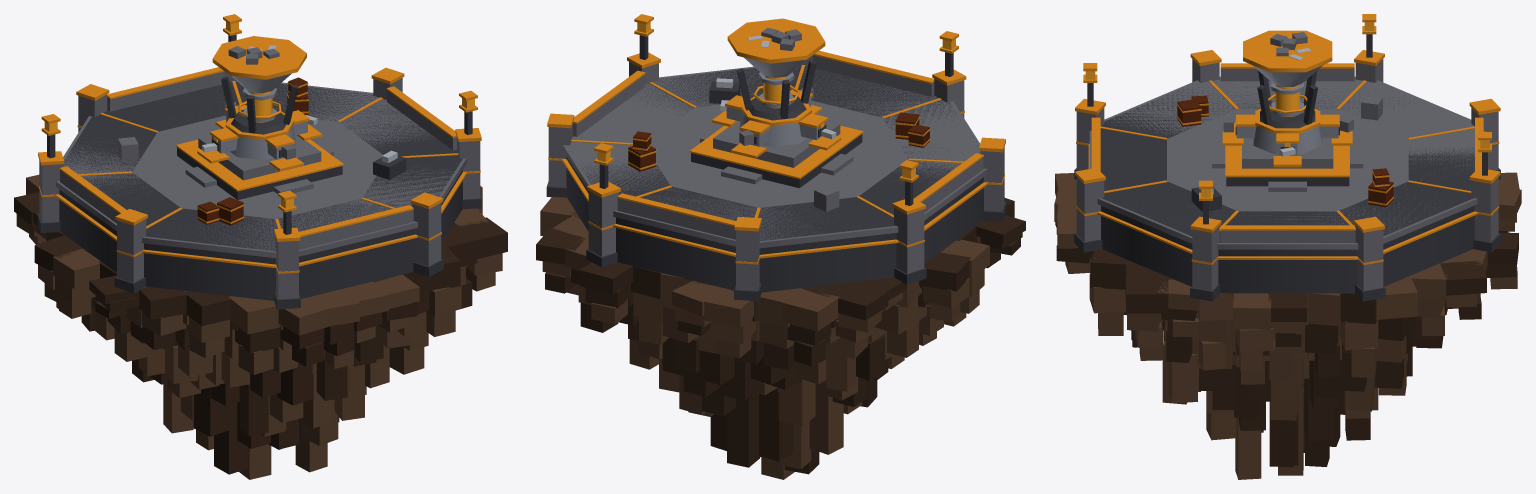
The model's file is bedwars-dispenser-island.obj.
The picture shows the model from 3 angles, left to right: view 1: azimuth 30°, elevation 25°; view 2: azimuth 150°, elevation 25°; view 3: azimuth 270°, elevation 25°; orthographic projection. The views are drawn at different scales.
Parts seen in each view (by area): view 1: platform_stone_dark, rock_underside_rock, rock_underside_rock_dark, platform_stone_tile, pillars_stone_tile, railings_stone_tile, railings_gold_trim, platform_trim_gold_trim, machine_hopper_gold_trim, pillars_gold_trim, tower_base_stone_tile, tower_base_gold_trim (+14 smaller); view 2: rock_underside_rock, platform_stone_dark, platform_stone_tile, rock_underside_rock_dark, pillars_stone_tile, railings_stone_tile, railings_gold_trim, platform_trim_gold_trim, machine_hopper_gold_trim, tower_base_stone_tile, pillars_gold_trim, tower_base_gold_trim (+15 smaller); view 3: rock_underside_rock, platform_stone_dark, platform_stone_tile, rock_underside_rock_dark, pillars_stone_tile, pillars_gold_trim, railings_stone_tile, platform_trim_gold_trim, machine_hopper_gold_trim, tower_base_stone_tile, tower_base_gold_trim, railings_gold_trim (+15 smaller).
Boxes of the visible parts, box(x1,y1,x2,y2) form: platform_stone_dark: box(59, 81, 462, 300); rock_underside_rock: box(16, 174, 502, 479); rock_underside_rock_dark: box(14, 192, 507, 474); platform_stone_tile: box(56, 82, 466, 258); pillars_stone_tile: box(39, 71, 480, 299); railings_stone_tile: box(60, 71, 456, 249); railings_gold_trim: box(59, 67, 456, 237); platform_trim_gold_trim: box(55, 81, 467, 267); machine_hopper_gold_trim: box(212, 36, 306, 79); pillars_gold_trim: box(38, 67, 481, 273); tower_base_stone_tile: box(185, 135, 333, 194); tower_base_gold_trim: box(176, 139, 343, 191); rock_underside_rock: box(540, 197, 990, 479); platform_stone_dark: box(566, 65, 983, 292); platform_stone_tile: box(563, 66, 987, 248); rock_underside_rock_dark: box(536, 198, 1025, 474); pillars_stone_tile: box(548, 55, 1004, 290); railings_stone_tile: box(573, 55, 983, 239); railings_gold_trim: box(573, 50, 983, 226); platform_trim_gold_trim: box(562, 65, 988, 258); machine_hopper_gold_trim: box(727, 18, 825, 63); tower_base_stone_tile: box(700, 121, 853, 184); pillars_gold_trim: box(547, 52, 1005, 264); tower_base_gold_trim: box(689, 125, 863, 179); rock_underside_rock: box(1054, 172, 1521, 479); platform_stone_dark: box(1100, 79, 1474, 293); platform_stone_tile: box(1089, 76, 1485, 249); rock_underside_rock_dark: box(1055, 222, 1518, 467); pillars_stone_tile: box(1076, 59, 1498, 290); pillars_gold_trim: box(1075, 50, 1500, 265); railings_stone_tile: box(1220, 68, 1354, 242); platform_trim_gold_trim: box(1088, 80, 1478, 259); machine_hopper_gold_trim: box(1243, 30, 1332, 72); tower_base_stone_tile: box(1212, 138, 1363, 191); tower_base_gold_trim: box(1225, 123, 1349, 177); railings_gold_trim: box(1091, 63, 1483, 230).
Bounding box in the file's own units: 53.19 × 53.85 × 53.15.
